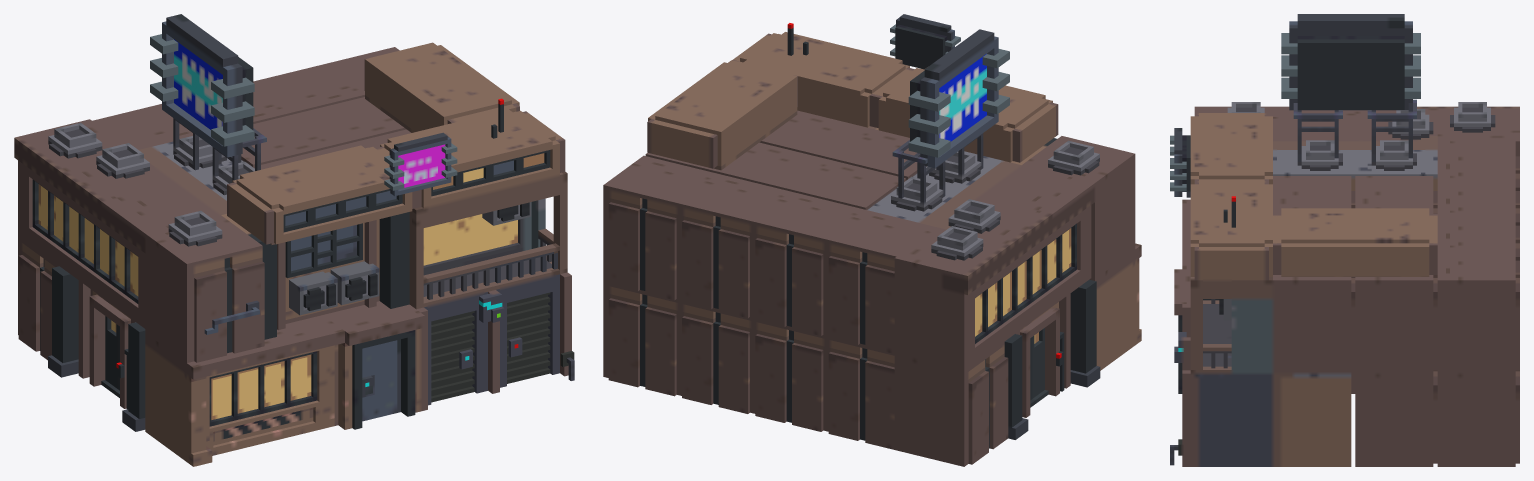
The picture shows the model from 3 angles, left to right: view 1: azimuth 30°, elevation 25°; view 2: azimuth 150°, elevation 25°; view 3: azimuth 270°, elevation 25°; orthographic projection. The views are drawn at different scales.
Visible parts, largest first — view 1: _4; view 2: _4; view 3: _4.
Part boxes in pixels (box(x1,y1,x2,y2)): _4: box(14, 14, 574, 466); _4: box(603, 14, 1141, 466); _4: box(1170, 14, 1519, 466).
Size of the model in its own units: 1020 by 860 by 850.
